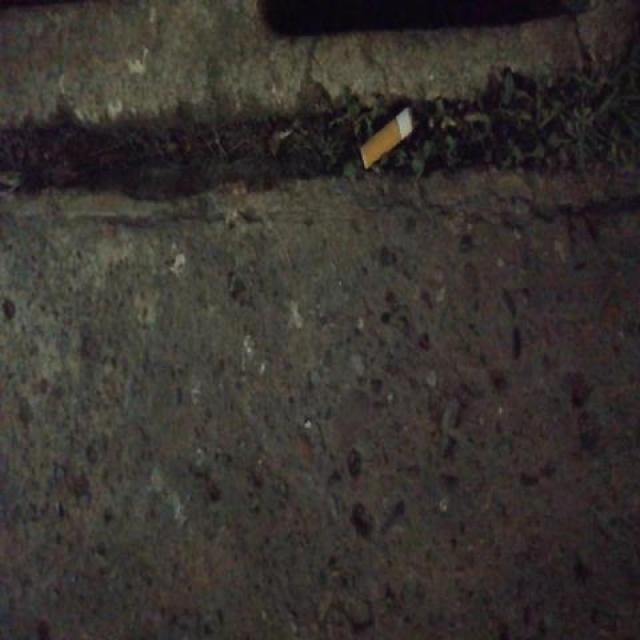non-organic waste: (355, 102, 417, 174)
